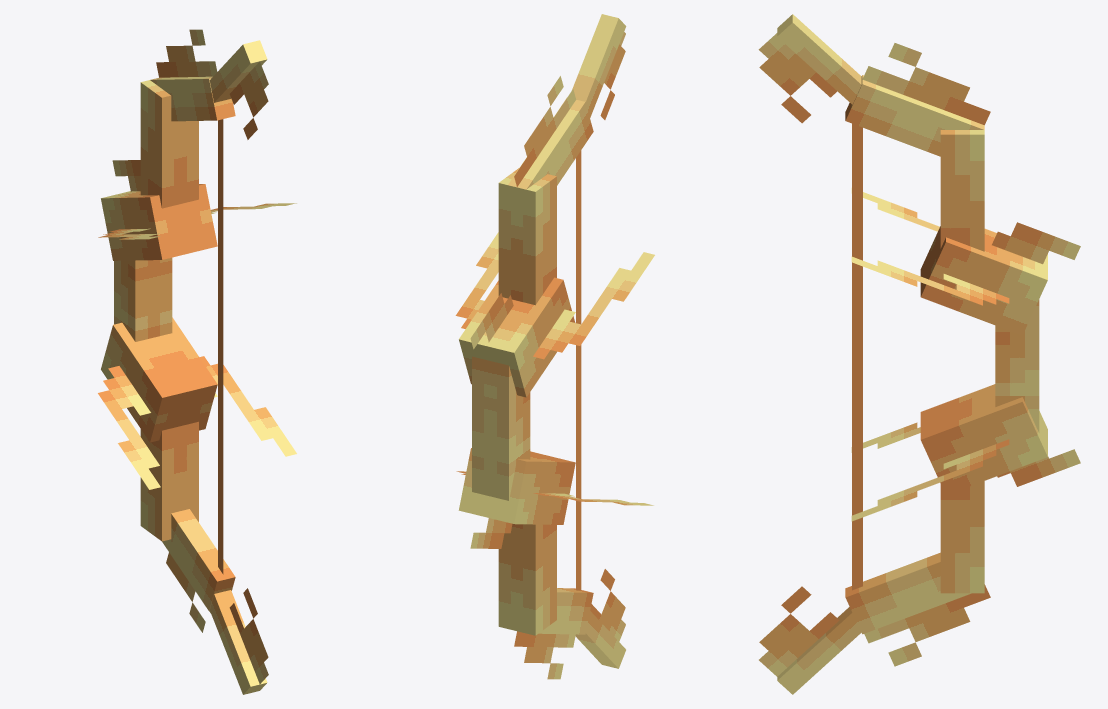
Rendered from archer_bow_spirit_dragon_3.gltf.
3 views of the same model, side by side, from view 1: azimuth 30°, elevation 25°; view 2: azimuth 150°, elevation 25°; view 3: azimuth 270°, elevation 25° (orthographic). The views are drawn at different scales.
Parts seen in each view (by area): view 1: cube (×17); view 2: cube (×18); view 3: cube (×20).
Boxes of the visible parts, x1,y1,x2,y2 form: cube (×17): [98, 29, 296, 694]; cube (×18): [455, 14, 654, 679]; cube (×20): [758, 14, 1080, 694].
Size of the model in its own units: 1.22 by 3.15 by 1.54.
Materials: 1 (1 with a texture image).
